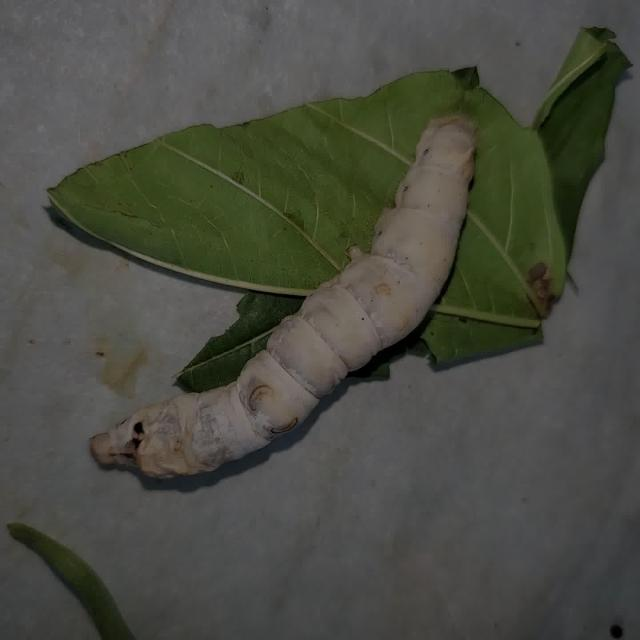Grasserie: (81, 106, 485, 490)
